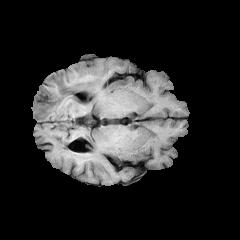glioma: (33, 72, 98, 120)
